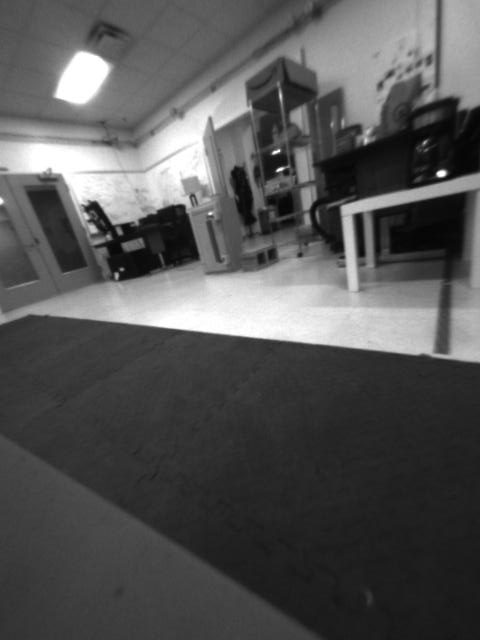coffee_pot: (404, 96, 457, 188)
